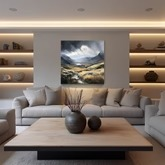painting: (60, 40, 105, 85)
